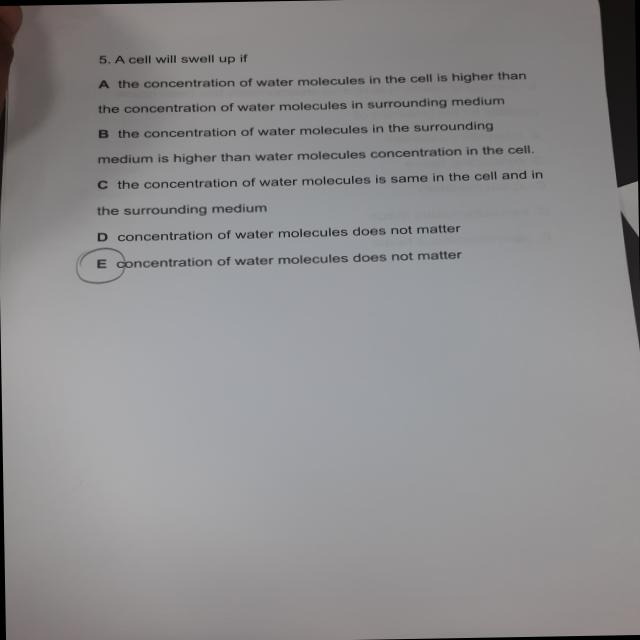E: (75, 248, 132, 289)
